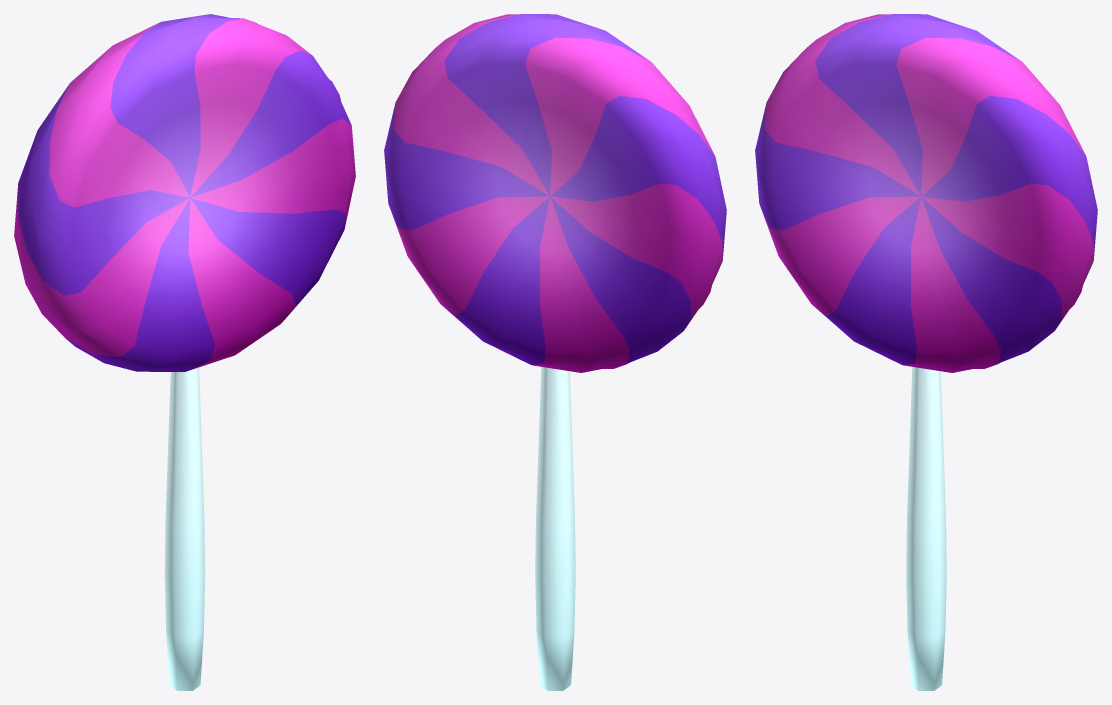
The model's file is Lollipop_Stick_01.glb.
3 views of the same model, side by side, from view 1: azimuth 30°, elevation 25°; view 2: azimuth 150°, elevation 25°; view 3: azimuth 330°, elevation 25° (orthographic).
Parts seen in each view (by area): view 1: Lollipop_Stick_01; view 2: Lollipop_Stick_01; view 3: Lollipop_Stick_01.
Boxes of the visible parts, x1,y1,x2,y2 form: Lollipop_Stick_01: (14,14,355,690); Lollipop_Stick_01: (384,14,726,690); Lollipop_Stick_01: (755,14,1097,690).
Bounding box in the file's own units: 0.8567 × 1.67 × 0.1813.
1 material, 1 textured.
